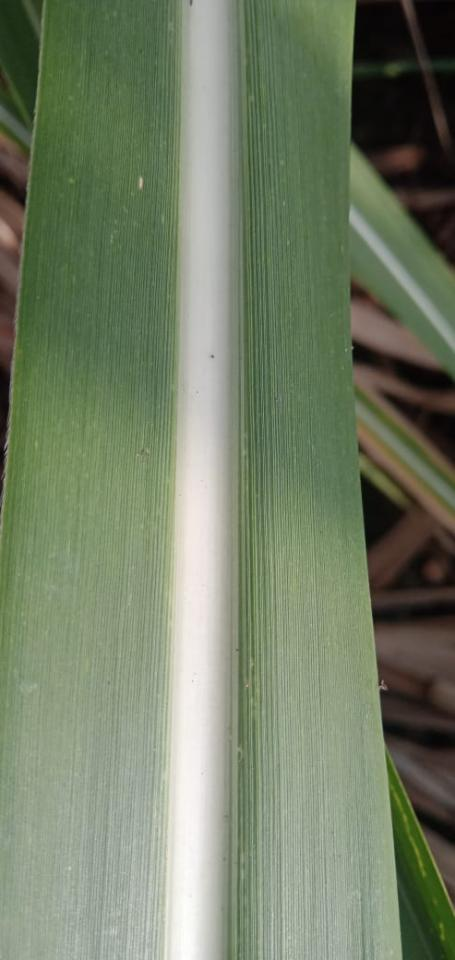Healthy: (0, 0, 405, 959)
